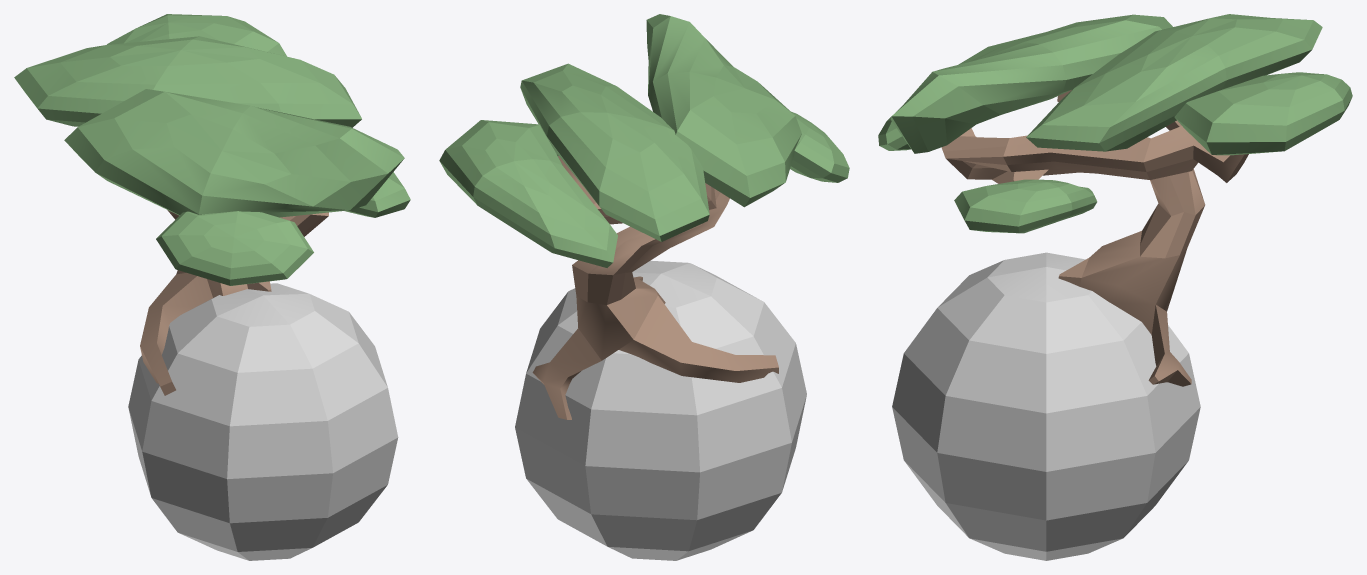
The model's file is Tree02.fbx.
The picture shows the model from 3 angles, left to right: view 1: azimuth 30°, elevation 25°; view 2: azimuth 150°, elevation 25°; view 3: azimuth 270°, elevation 25°; orthographic projection. The views are drawn at different scales.
Visible parts, largest first — view 1: polySurface1; view 2: polySurface1; view 3: polySurface1.
Part boxes in pixels (x1,y1,x2,y2): polySurface1: (14, 14, 410, 560); polySurface1: (439, 14, 849, 560); polySurface1: (878, 14, 1352, 560).
Bounding box in the file's own units: 0.7934 × 1.31 × 1.12.
